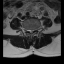CCS_stenosis: (30, 27, 32, 36)
LFS_severe_stenosis: (33, 27, 35, 32)
LLS_stenosis: (32, 27, 33, 34)
RFS_normal: (26, 27, 28, 33)
RLS_normal: (28, 27, 30, 34)
